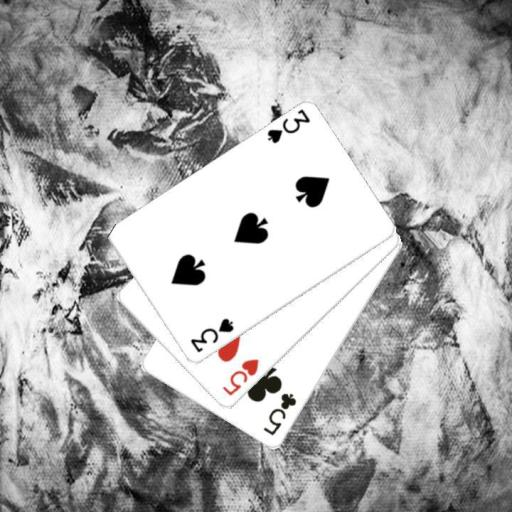3S: (187, 315, 235, 355), (264, 106, 311, 146)
5C: (260, 390, 299, 438)
5H: (219, 356, 260, 398)
